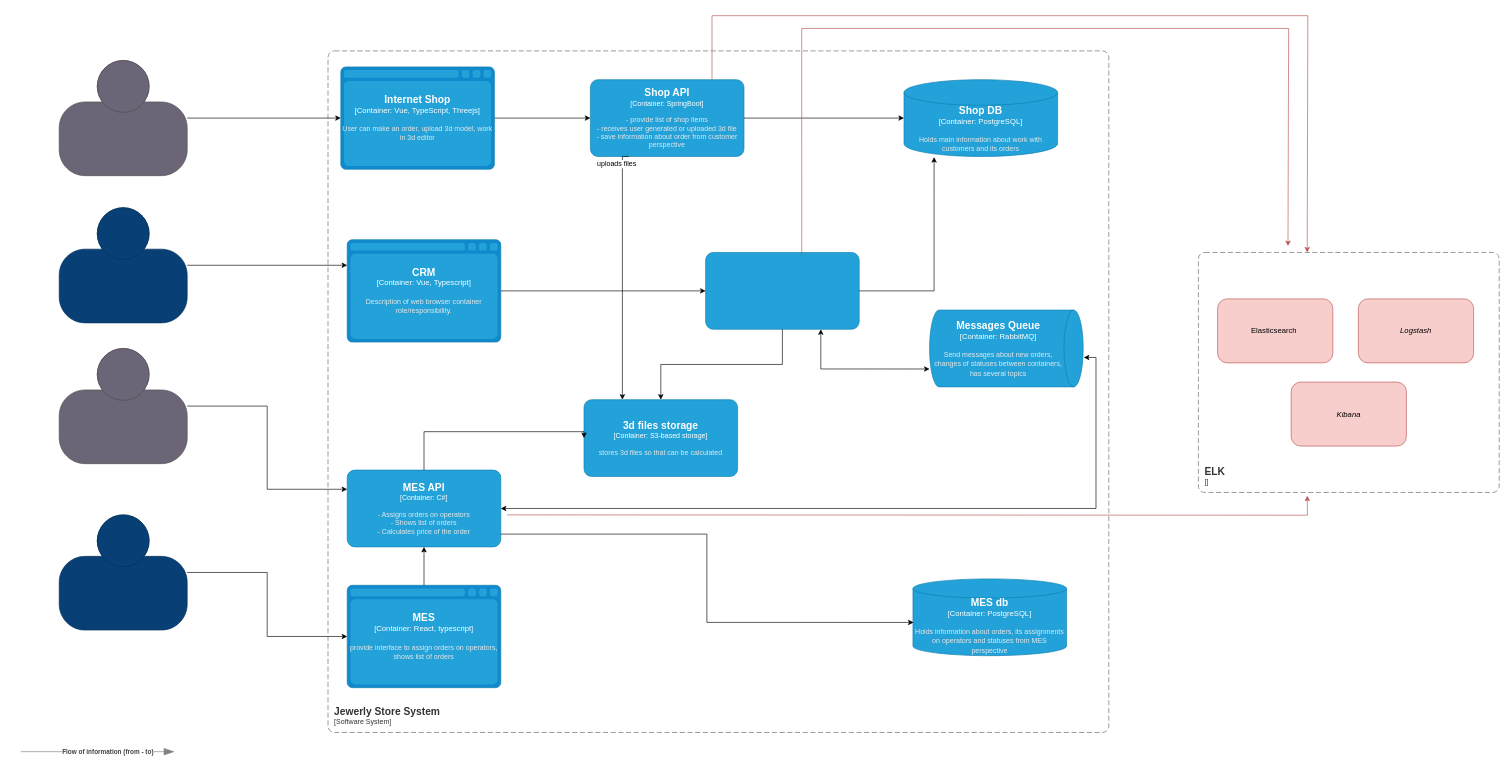
This 1510x773 diagram has some shape labels left out. Each missing label, with the centre of its shape:
"API user [Person] Description of external person." goes at point 123,406.
"CRM API [Container: SpringBoot] Description of container role/responsibility." goes at point 782,290.
"Customer [Person] Description of external person." goes at point 123,118.
"Operator [Person] Takes order in work, manufactures jewerly" goes at point 123,572.
"Seller [Person] Operates with order, confirms manufacturing for the user" goes at point 123,265.
